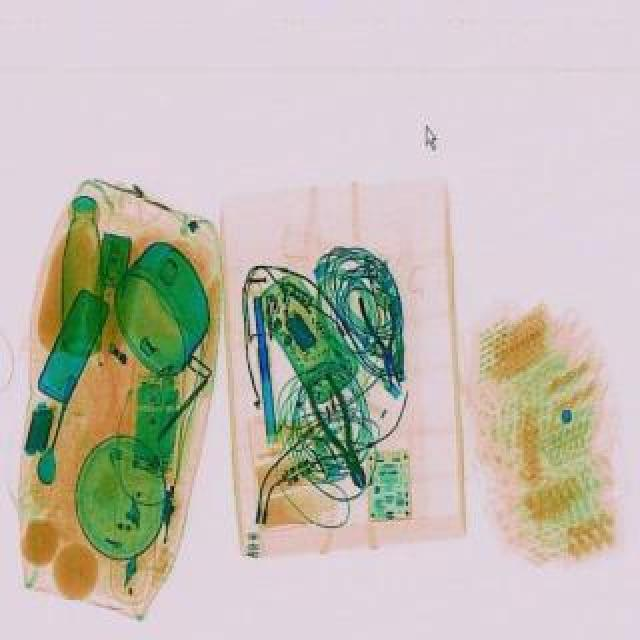wrench: (300, 370, 380, 494), (356, 292, 408, 392)
